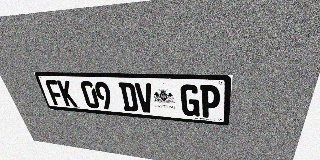0: (79, 81, 100, 109)
9: (93, 81, 114, 110)
D: (118, 82, 139, 112)
F: (44, 80, 66, 106)
G: (180, 84, 199, 117)
K: (57, 80, 78, 107)
P: (200, 85, 221, 118)
V: (134, 83, 155, 113)
